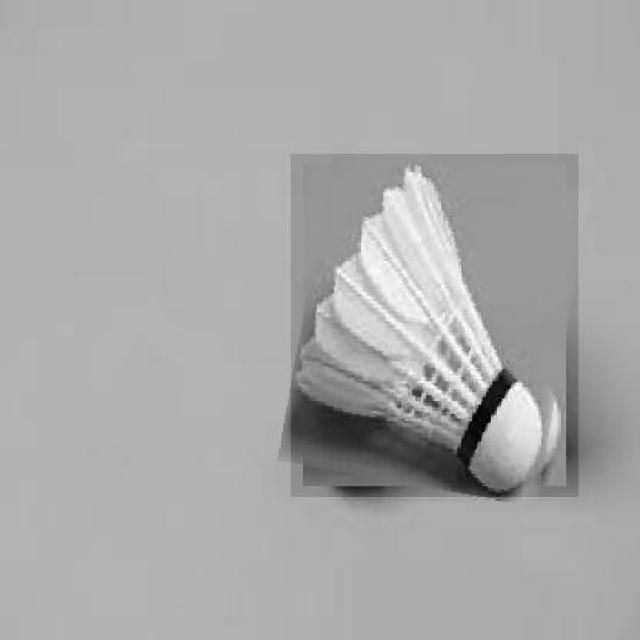Shuttlecock: (291, 154, 578, 497)
